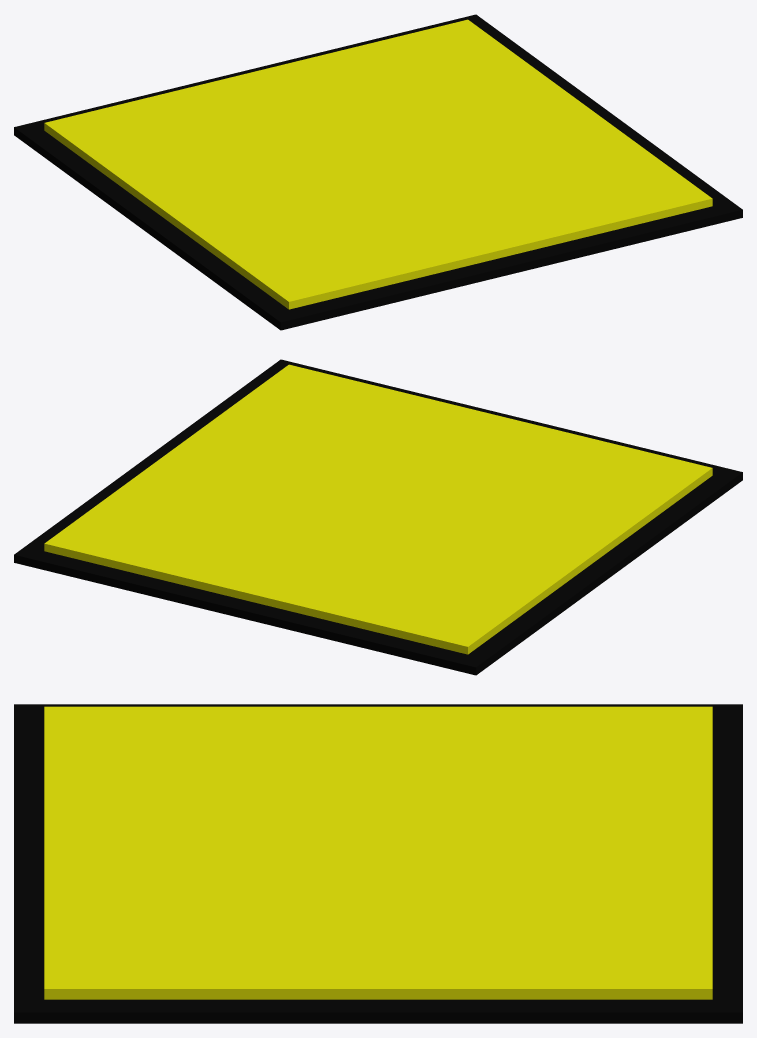
The model's file is YellowPanel.fbx.
3 renders of one model, top to bottom at view 1: azimuth 30°, elevation 25°; view 2: azimuth 150°, elevation 25°; view 3: azimuth 270°, elevation 25°, orthographic. The views are drawn at different scales.
Parts seen in each view (by area): view 1: pCube3; view 2: pCube3; view 3: pCube3.
Part boxes in pixels (x1,y1,x2,y2): pCube3: [14, 14, 742, 330]; pCube3: [14, 359, 742, 675]; pCube3: [14, 704, 742, 1023].
Size of the model in its own units: 3 by 0.0979 by 3.
